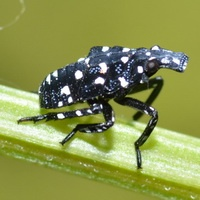insect: (18, 45, 187, 167)
